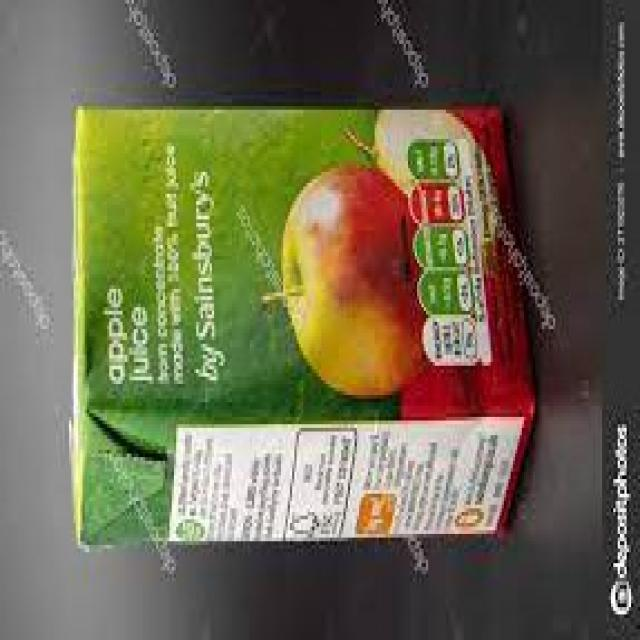non_white_jug: (67, 102, 540, 544)
